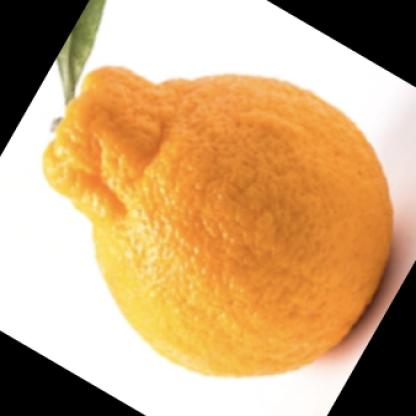fresh: (40, 64, 393, 378)
